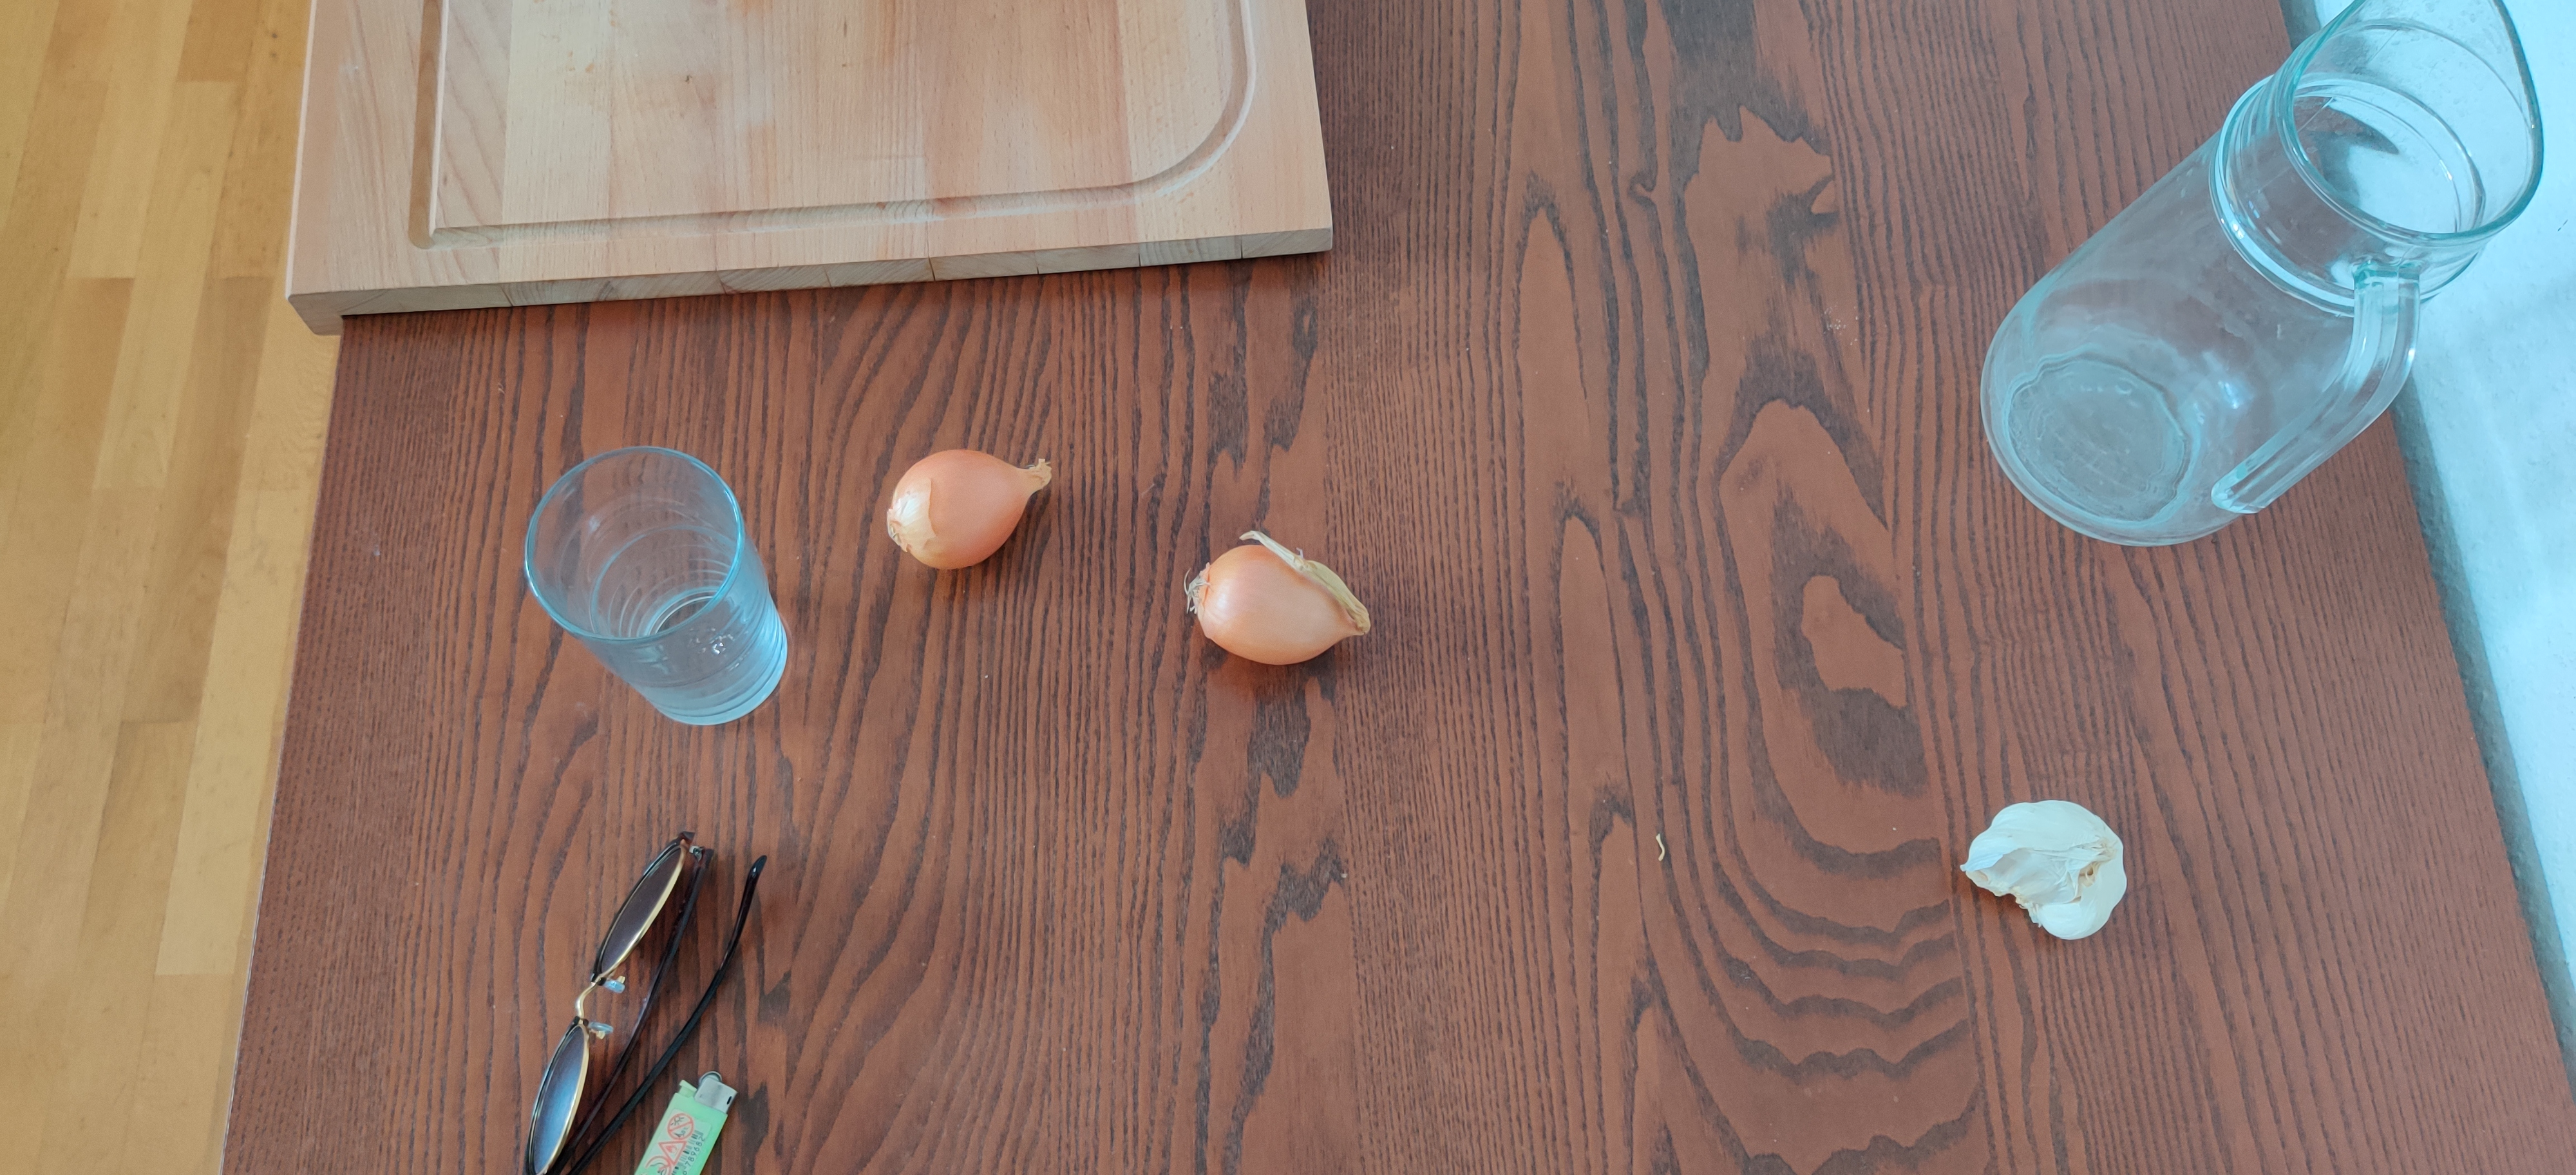Zwiebel: (1191, 542, 1372, 666), (885, 449, 1051, 572)
